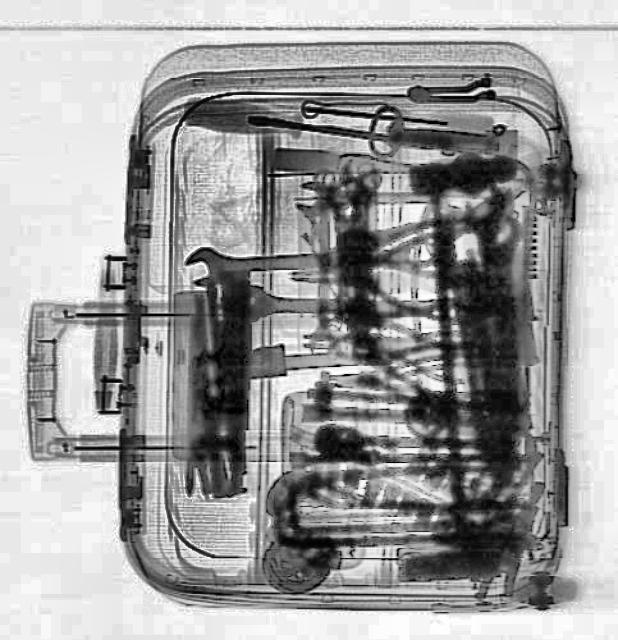Wrench: (181, 240, 329, 286), (296, 179, 426, 213)
